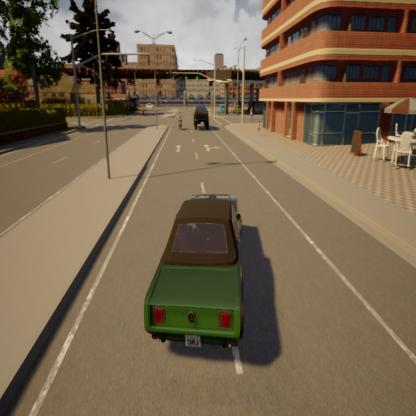Cars: (141, 185, 253, 365), (192, 103, 212, 133)
Pedestrian: (248, 102, 256, 126)
